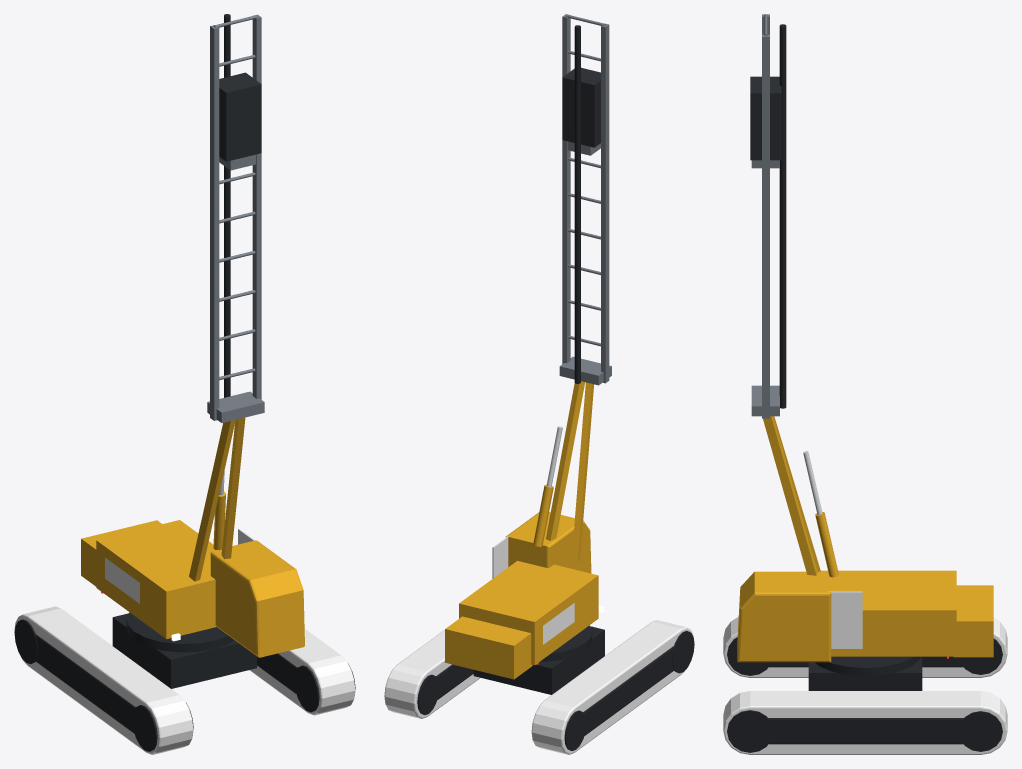
The model's file is equipment--pileDrivingRig.glb.
3 renders of one model, left to right at view 1: azimuth 30°, elevation 25°; view 2: azimuth 150°, elevation 25°; view 3: azimuth 270°, elevation 25°, orthographic. The views are drawn at different scales.
Visible parts, largest first — view 1: house, trackR, leads, pileDrivingRig:shell, trackL, raisingBoom, hammer, gate, counterweight; view 2: house, trackR, leads, trackL, raisingBoom, counterweight, pileDrivingRig:shell, hammer, gate; view 3: trackL, house, leads, trackR, pileDrivingRig:shell, raisingBoom, counterweight, hammer, cabDoor, gate.
Boxes of the visible parts, left/top/right/bottom form: house: left=96, top=520, right=304, bottom=657; trackR: left=14, top=606, right=193, bottom=754; leads: left=210, top=14, right=261, bottom=420; pileDrivingRig:shell: left=112, top=612, right=256, bottom=688; trackL: left=249, top=629, right=355, bottom=715; raisingBoom: left=189, top=417, right=245, bottom=581; hammer: left=219, top=72, right=261, bottom=170; gate: left=207, top=391, right=264, bottom=422; counterweight: left=81, top=520, right=161, bottom=586; house: left=459, top=512, right=598, bottom=665; trackR: left=531, top=620, right=694, bottom=754; leads: left=562, top=14, right=609, bottom=383; trackL: left=384, top=630, right=480, bottom=718; raisingBoom: left=533, top=381, right=593, bottom=562; counterweight: left=445, top=616, right=532, bottom=679; pileDrivingRig:shell: left=473, top=625, right=604, bottom=694; hammer: left=562, top=67, right=600, bottom=155; gate: left=559, top=356, right=611, bottom=385; trackL: left=723, top=691, right=1007, bottom=754; house: left=737, top=570, right=956, bottom=662; leads: left=762, top=14, right=786, bottom=418; trackR: left=723, top=617, right=1007, bottom=677; pileDrivingRig:shell: left=808, top=656, right=922, bottom=690; raisingBoom: left=763, top=416, right=838, bottom=577; counterweight: left=954, top=585, right=993, bottom=657; hammer: left=750, top=76, right=781, bottom=168; cabDoor: left=829, top=591, right=862, bottom=648; gate: left=751, top=385, right=779, bottom=416.
Size of the model in its own units: 3.94 by 13.28 by 5.
